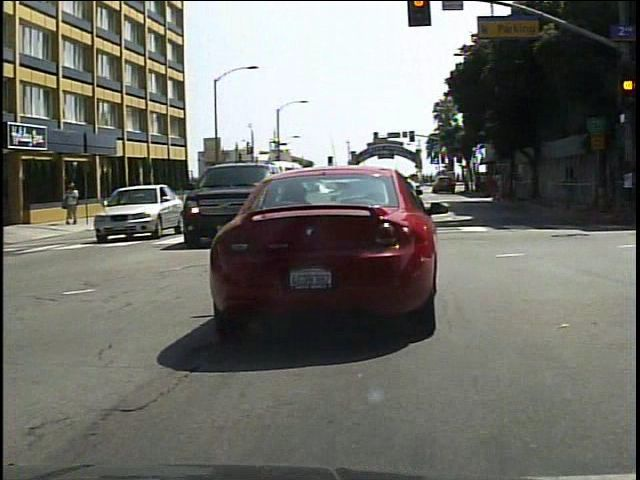person: (63, 178, 85, 226)
